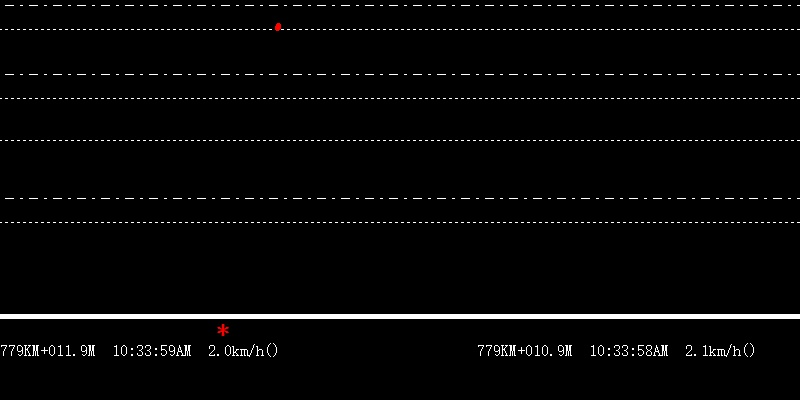face_1: (271, 21, 283, 33)
star: (214, 320, 233, 340)
